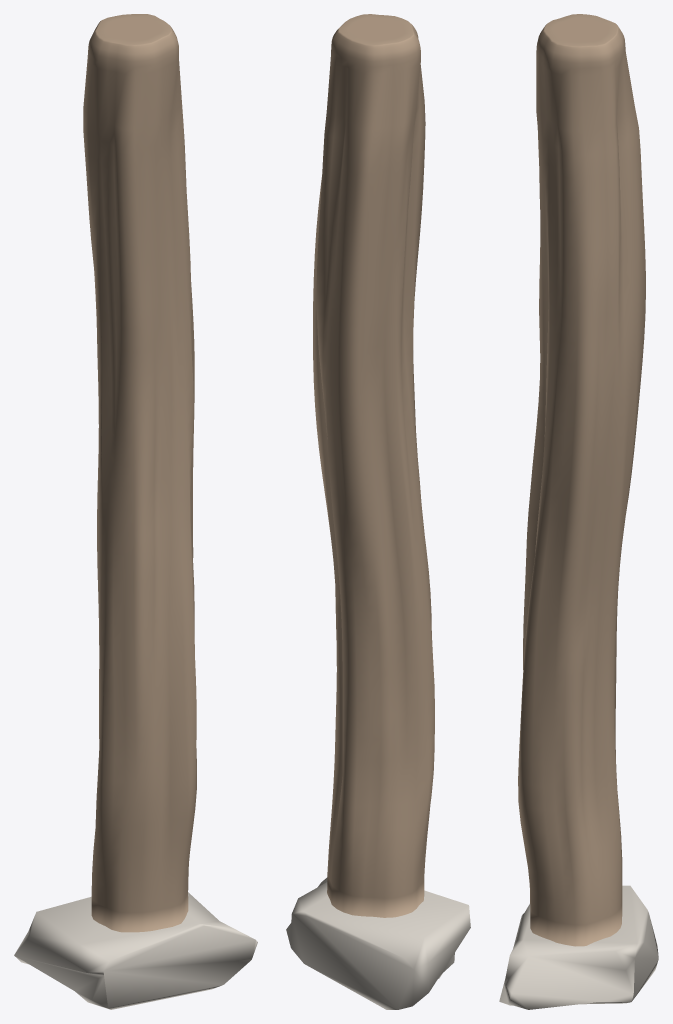
Rendered from bagana-f2-3x13x3-v2.glb.
3 renders of one model, left to right at view 1: azimuth 30°, elevation 25°; view 2: azimuth 150°, elevation 25°; view 3: azimuth 270°, elevation 25°, orthographic. The views are drawn at different scales.
Parts seen in each view (by area): view 1: bagana_wood, bagana_stone; view 2: bagana_wood, bagana_stone; view 3: bagana_wood, bagana_stone.
Boxes of the visible parts, box(x1,y1,x2,y2) form: bagana_wood: box(83, 14, 196, 932); bagana_stone: box(14, 892, 257, 1009); bagana_wood: box(313, 14, 434, 917); bagana_stone: box(286, 877, 470, 1009); bagana_wood: box(518, 14, 645, 946); bagana_stone: box(499, 885, 658, 1009).
Size of the model in its own units: 0.6304 by 3.26 by 0.4895.
